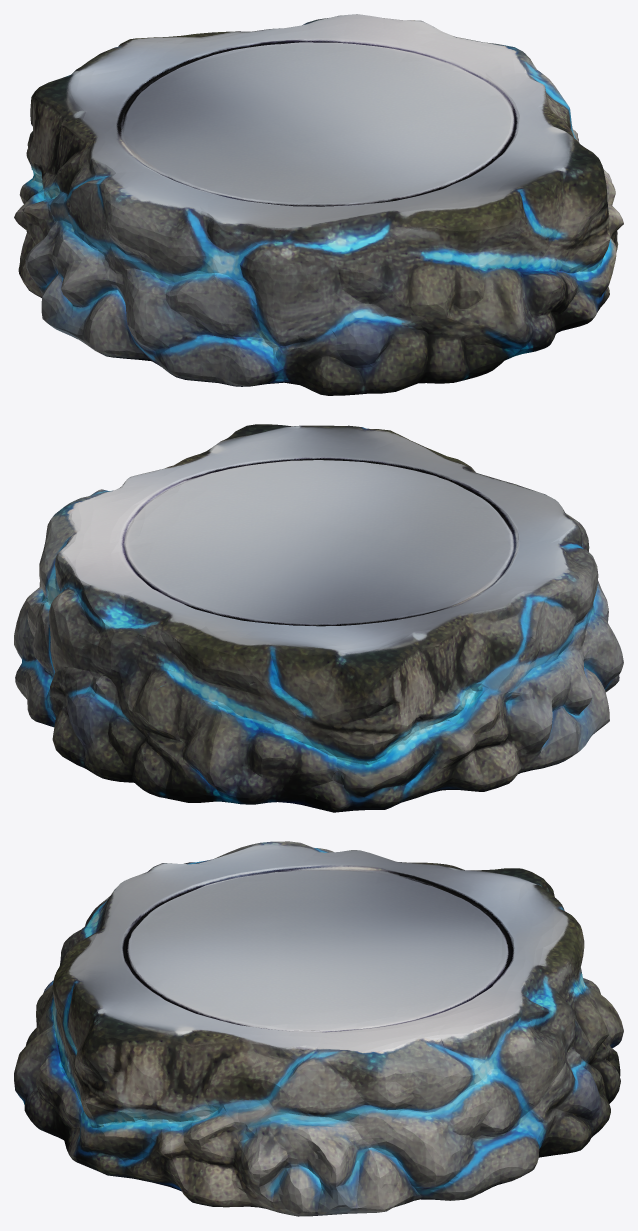
Rendered from Heartstone.glb.
3 views of the same model, one above another, from view 1: azimuth 30°, elevation 25°; view 2: azimuth 150°, elevation 25°; view 3: azimuth 270°, elevation 25° (orthographic). The views are drawn at different scales.
Parts seen in each view (by area): view 1: world; view 2: world; view 3: world.
Part boxes in pixels (left/top/right/bottom): world: left=14, top=14, right=623, bottom=395; world: left=14, top=424, right=623, bottom=812; world: left=14, top=841, right=623, bottom=1216.
Size of the model in its own units: 0.982 by 0.2688 by 0.9864.
Materials: 1 (1 with a texture image).
